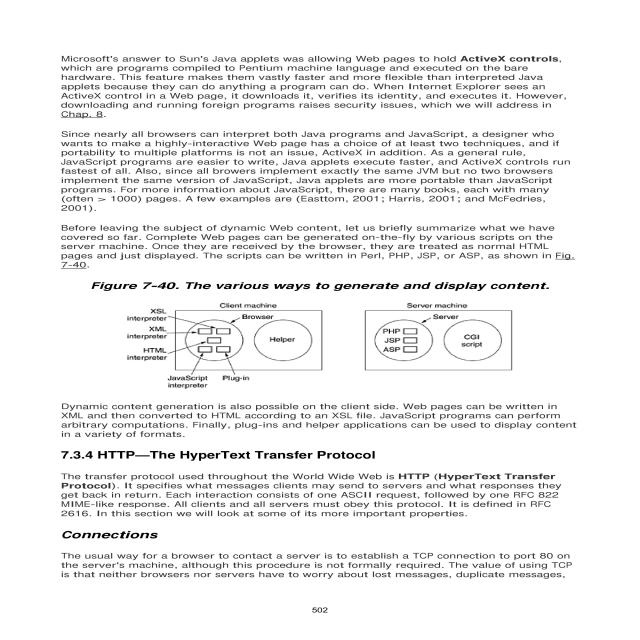diagram: (53, 277, 624, 445)
